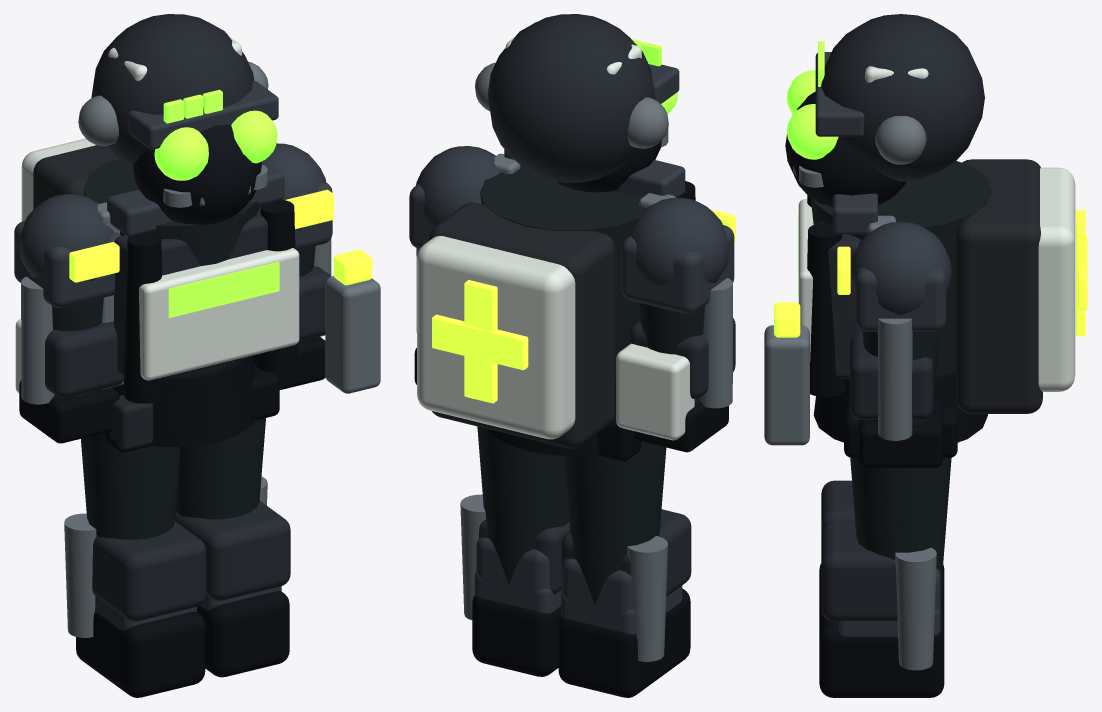
The model's file is medic_l03.glb.
The picture shows the model from 3 angles, left to right: view 1: azimuth 30°, elevation 25°; view 2: azimuth 150°, elevation 25°; view 3: azimuth 270°, elevation 25°; orthographic projection. The views are drawn at different scales.
Visible parts, largest first — view 1: shaped_knee_guard (×2), trouser (×2), boot (×2), reinforced_vest, rounded_helmet, waist_flex, enclosed_mask, shoulder_joint (×2), forearm_plate (×2), vest_tether (×2), aid_injector, glove (×2) (+19 smaller); view 2: medical_pack, rounded_helmet, trouser (×2), field_pack, boot (×2), shoulder_joint (×2), body, triage_satchel, shin_frame (×2), shoulder_plate (×2), knee_plate (×2), shaped_knee_guard (×2) (+13 smaller); view 3: field_pack, rounded_helmet, trouser, medical_pack, shaped_knee_guard (×2), body, boot, shoulder_joint, aid_injector, shin_frame, vest_tether, forearm_seam (+19 smaller).
Boxes of the visible parts, x1=… form: shaped_knee_guard (×2): x1=92, y1=501, x2=290, y2=621; trouser (×2): x1=81, y1=418, x2=265, y2=539; boot (×2): x1=76, y1=591, x2=289, y2=697; reinforced_vest: x1=139, y1=248, x2=299, y2=380; rounded_helmet: x1=91, y1=14, x2=254, y2=167; waist_flex: x1=112, y1=356, x2=256, y2=446; enclosed_mask: x1=132, y1=124, x2=262, y2=224; shoulder_joint (×2): x1=19, y1=143, x2=325, y2=280; forearm_plate (×2): x1=45, y1=266, x2=330, y2=398; vest_tether (×2): x1=123, y1=199, x2=297, y2=403; aid_injector: x1=325, y1=276, x2=380, y2=393; glove (×2): x1=19, y1=336, x2=325, y2=443; medical_pack: x1=417, y1=236, x2=575, y2=439; rounded_helmet: x1=487, y1=14, x2=655, y2=182; trouser (×2): x1=477, y1=426, x2=666, y2=604; field_pack: x1=429, y1=202, x2=615, y2=448; boot (×2): x1=472, y1=588, x2=690, y2=697; shoulder_joint (×2): x1=416, y1=146, x2=728, y2=286; body: x1=480, y1=168, x2=646, y2=378; triage_satchel: x1=616, y1=343, x2=694, y2=440; shin_frame (×2): x1=460, y1=494, x2=667, y2=661; shoulder_plate (×2): x1=409, y1=184, x2=734, y2=314; knee_plate (×2): x1=476, y1=537, x2=678, y2=630; shaped_knee_guard (×2): x1=479, y1=509, x2=691, y2=596; field_pack: x1=956, y1=159, x2=1042, y2=413; rounded_helmet: x1=821, y1=14, x2=984, y2=181; trouser: x1=850, y1=457, x2=951, y2=593; medical_pack: x1=1038, y1=167, x2=1075, y2=391; shaped_knee_guard (×2): x1=821, y1=480, x2=897, y2=621; body: x1=810, y1=161, x2=991, y2=377; boot: x1=819, y1=602, x2=944, y2=697; shoulder_joint: x1=850, y1=221, x2=951, y2=314; aid_injector: x1=764, y1=325, x2=809, y2=445; shin_frame: x1=895, y1=547, x2=936, y2=670; vest_tether: x1=807, y1=223, x2=845, y2=396; forearm_seam: x1=877, y1=318, x2=912, y2=440.
Size of the model in its own units: 0.9406 by 1.87 by 0.8525.
